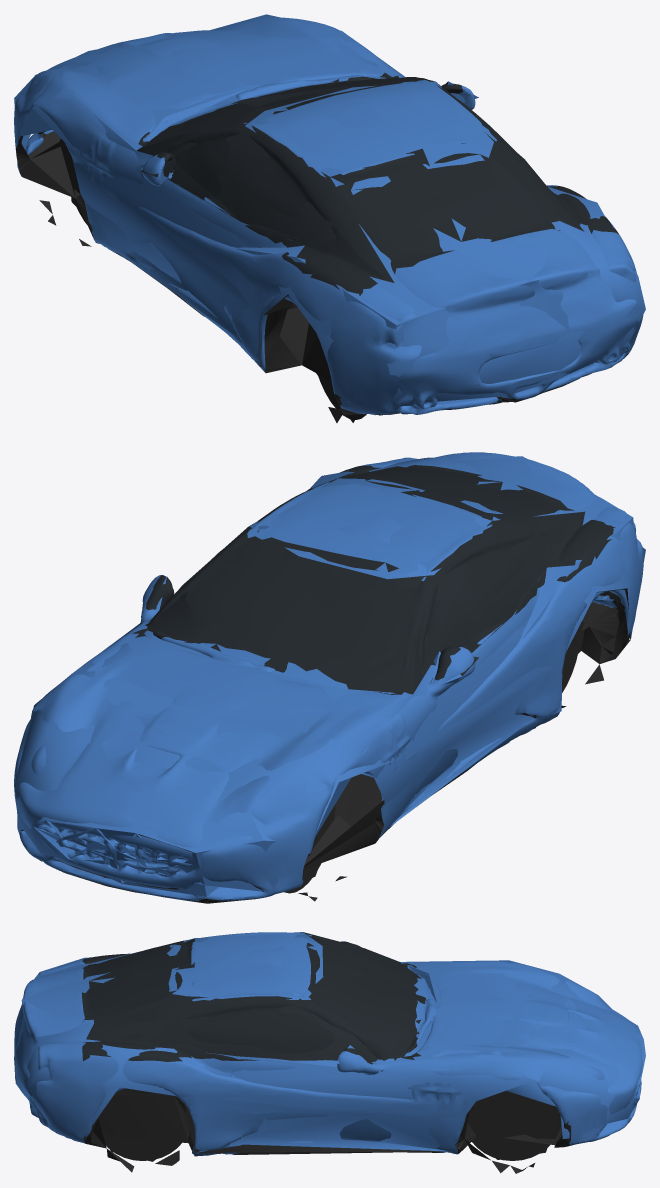
File: ferrari-california.glb
The picture shows the model from 3 angles, top to bottom: view 1: azimuth 30°, elevation 25°; view 2: azimuth 150°, elevation 25°; view 3: azimuth 270°, elevation 25°; orthographic projection. The views are drawn at different scales.
Parts seen in each view (by area): view 1: body, far; view 2: body, far; view 3: body, far.
Boxes of the visible parts, bbox=[...] form: body: bbox=[14, 17, 643, 422]; far: bbox=[14, 14, 645, 422]; body: bbox=[14, 452, 643, 903]; far: bbox=[14, 456, 645, 896]; body: bbox=[14, 932, 642, 1173]; far: bbox=[14, 932, 645, 1167].
Bounding box in the file's own units: 2.06 × 1.35 × 4.64.
